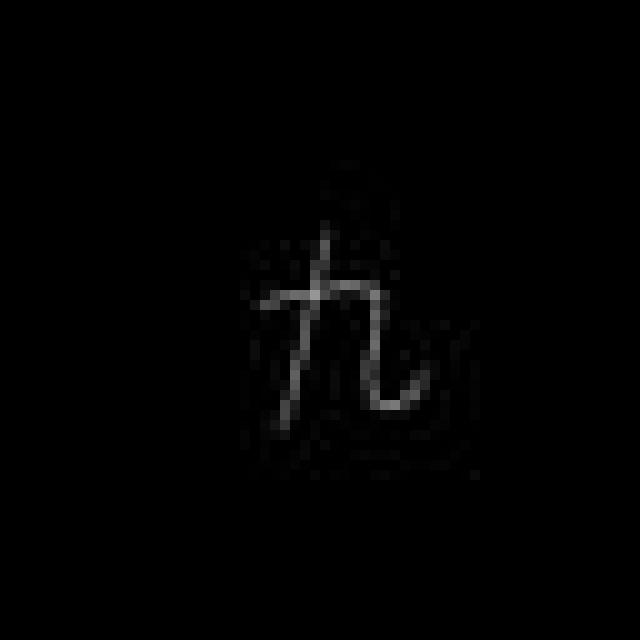9 -nine-: (253, 229, 427, 426)
